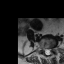CCS_normal: (46, 46, 48, 56)
LFS_stenosis: (51, 46, 53, 51)
LLS_normal: (48, 46, 50, 55)
RFS_normal: (42, 46, 44, 52)
RLS_normal: (44, 47, 46, 55)
